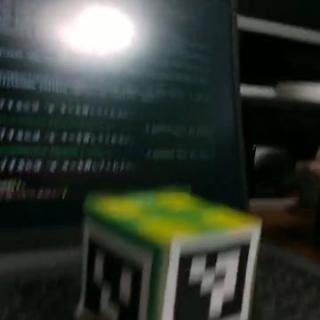armor: (163, 228, 259, 320), (78, 221, 150, 320)
robot: (72, 189, 265, 319)
